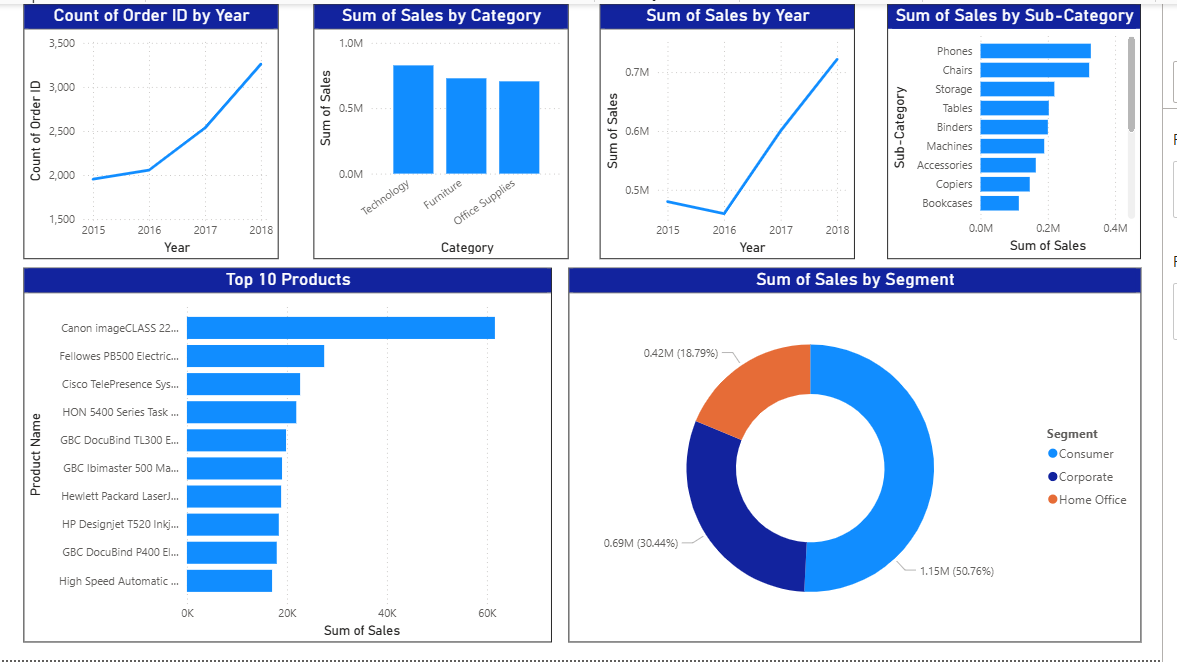

What the dashboard file says about the page in this screenshot:
{"tool":"powerbi","page":{"name":"Page 2","canvas":[1280,720],"ordinal":1},"visuals":[{"type":"lineChart","title":"Orders by Year","fields":{"Category":["superstore_sales_dataset.Order Date.Variation.Date Hierarchy.Year"],"Y":["CountNonNull(superstore_sales_dataset.Order ID)"]},"box":[30,0,280,280],"z":0},{"type":"clusteredColumnChart","title":"Sales by Category","fields":{"Category":["superstore_sales_dataset.Category"],"Y":["Sum(superstore_sales_dataset.Sales)"]},"box":[348.6,0,280,280],"z":1000},{"type":"lineChart","title":"Sales by Year","fields":{"Category":["superstore_sales_dataset.Order Date.Variation.Date Hierarchy.Year"],"Y":["Sum(superstore_sales_dataset.Sales)"]},"box":[662.9,0,280,280],"z":2000},{"type":"clusteredBarChart","title":"Sales by Sub-Category","fields":{"Category":["superstore_sales_dataset.Sub-Category"],"Y":["Sum(superstore_sales_dataset.Sales)"]},"box":[978.6,0,278.6,280],"z":3000},{"type":"clusteredBarChart","title":"Top 10 Products ","fields":{"Category":["superstore_sales_dataset.Product Name"],"Y":["Sum(superstore_sales_dataset.Sales)"]},"box":[30,290,580,411.4],"z":4000},{"type":"donutChart","title":"Sales by Segment","fields":{"Category":["superstore_sales_dataset.Segment"],"Y":["Sum(superstore_sales_dataset.Sales)"]},"box":[628.6,290,628.6,411.4],"z":5000}]}

Visuals, with their boxes in screenshot pixels (x1, y1, x2, y2), scaled from the page's 1280x720 canvas onto the 1177x662 screenshot:
"Orders by Year" lineChart: <box>28,0,285,257</box>
"Sales by Category" clusteredColumnChart: <box>321,0,578,257</box>
"Sales by Year" lineChart: <box>610,0,867,257</box>
"Sales by Sub-Category" clusteredBarChart: <box>900,0,1156,257</box>
"Top 10 Products " clusteredBarChart: <box>28,267,561,645</box>
"Sales by Segment" donutChart: <box>578,267,1156,645</box>
